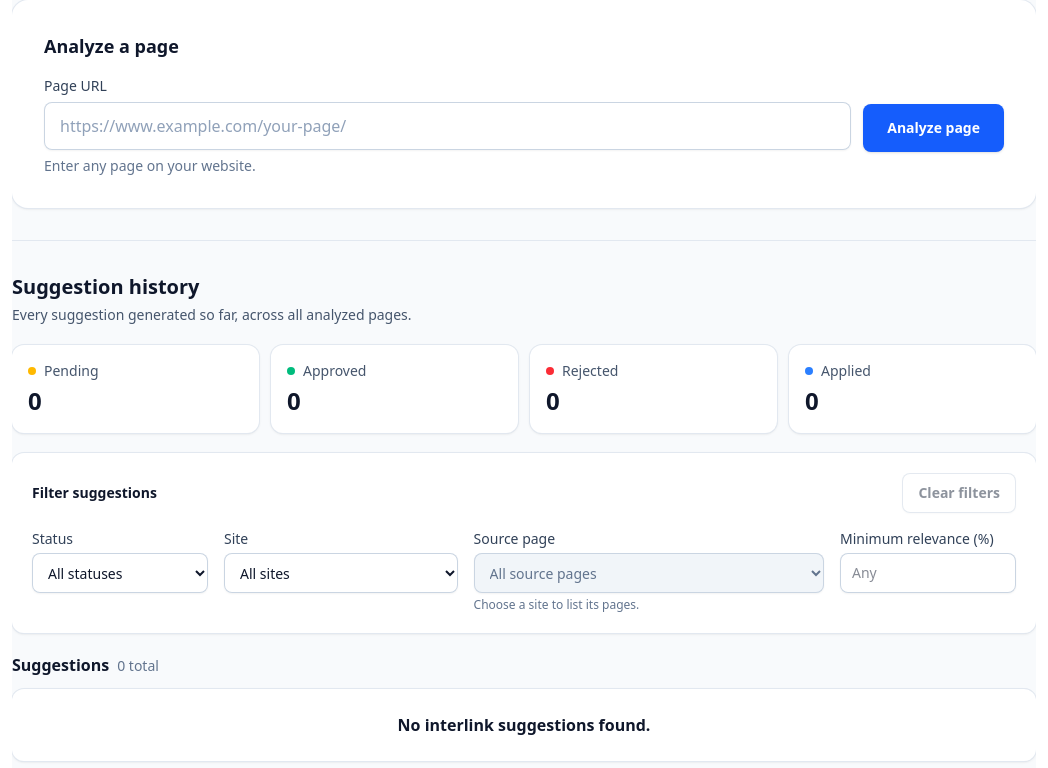
it: new page discovery › explains an unindexed page and offers Crawl & Analyze instead of an error
Type "https://example.test/new-service/" into the field labelled "Page URL".
click(448, 126); type("https://example.test/new-service/")  # box [44, 102, 851, 150]
Then press Enter
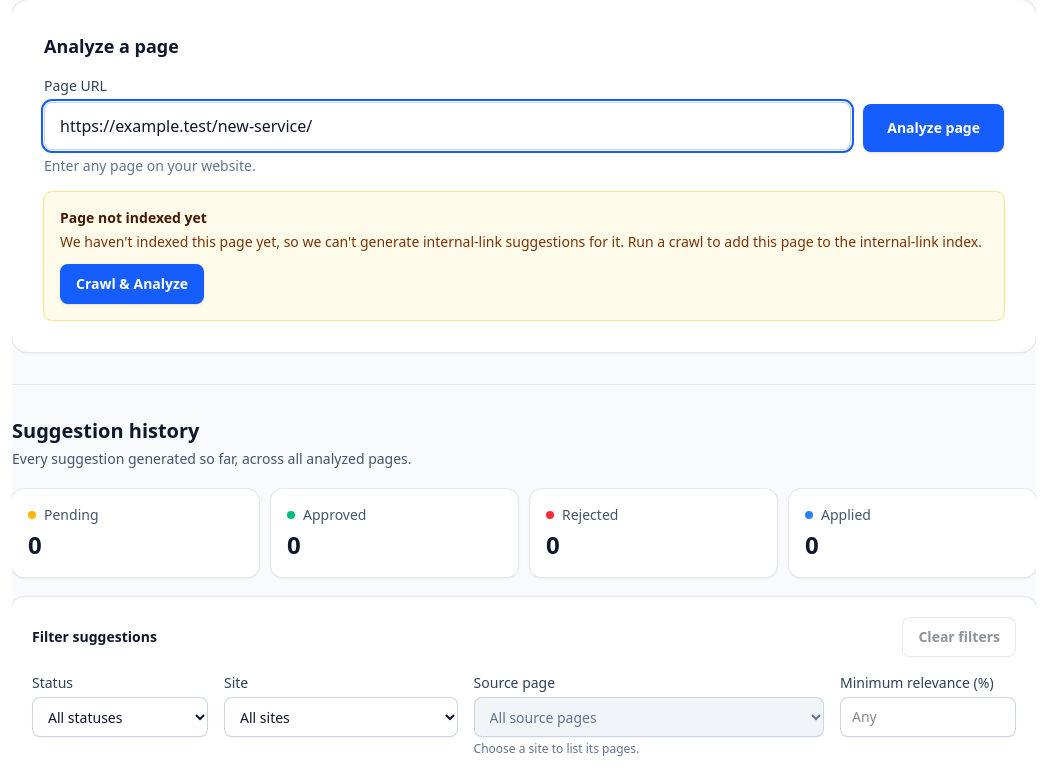
Expected: the button "Crawl & Analyze" is enabled, [60, 264, 204, 304]
